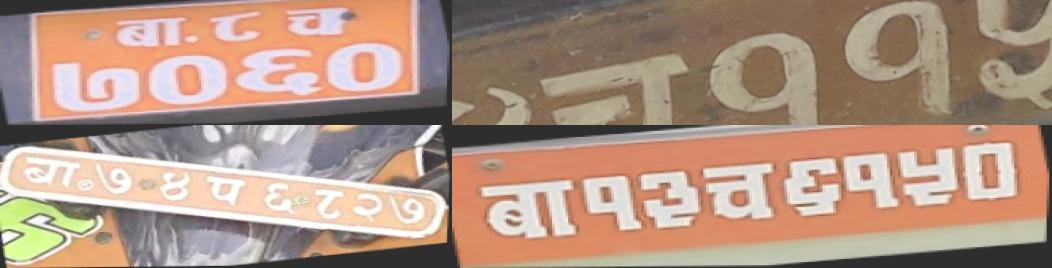0: (951, 138, 1035, 208), (136, 50, 238, 107), (315, 37, 412, 94)
1: (569, 169, 653, 237), (833, 149, 909, 218)
2: (346, 186, 391, 226)
3: (835, 0, 962, 125), (701, 25, 832, 125), (628, 166, 715, 235)
4: (151, 168, 200, 204)
5: (889, 143, 970, 213), (452, 81, 557, 125)
6: (960, 0, 1052, 121), (226, 43, 331, 102), (771, 154, 852, 221), (258, 179, 306, 221)
7: (41, 56, 150, 116), (385, 186, 437, 227), (91, 158, 139, 198)
8: (199, 9, 273, 44), (308, 184, 352, 222)
9: (532, 49, 702, 125)
ba: (467, 173, 589, 247), (16, 150, 87, 197), (107, 15, 198, 50)
cha: (694, 159, 791, 228), (279, 5, 360, 41)
pa: (198, 166, 252, 215)
